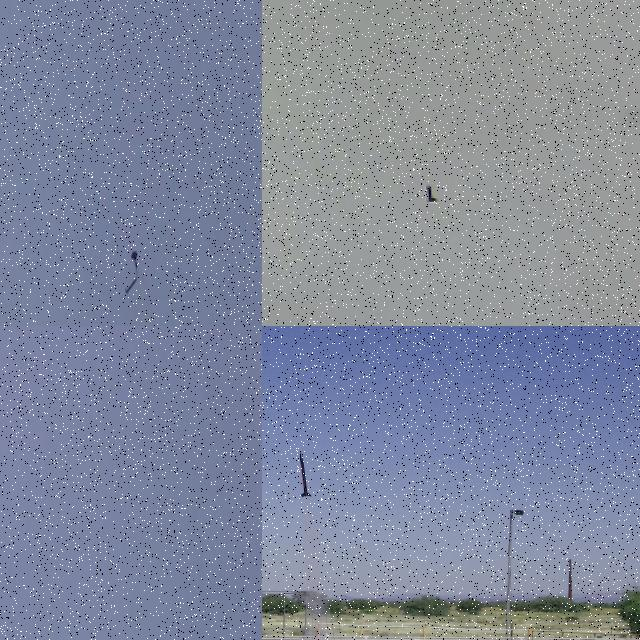Rocket: (299, 450, 312, 498), (423, 184, 438, 204), (126, 274, 137, 298), (324, 632, 336, 640)
